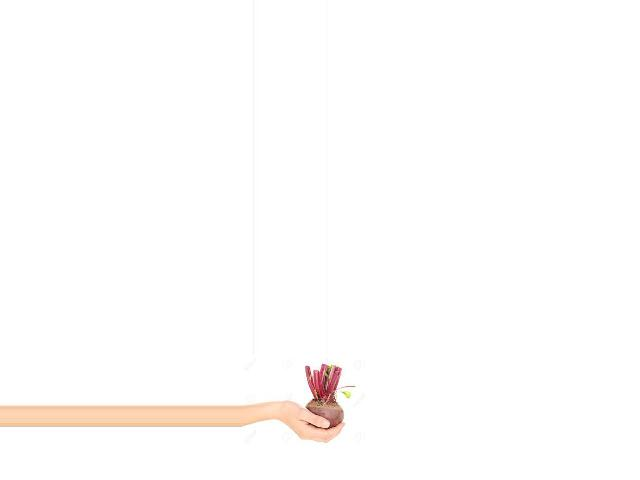beet: (305, 364, 356, 429)
